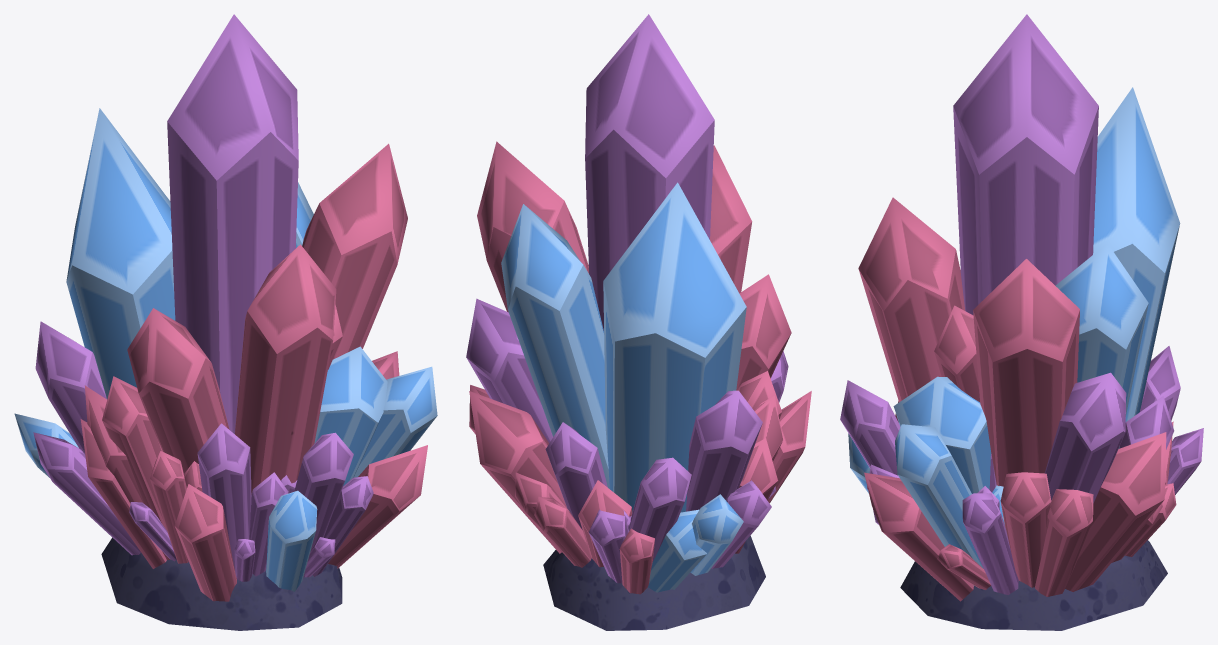
The model's file is crystal.glb.
The picture shows the model from 3 angles, left to right: view 1: azimuth 30°, elevation 25°; view 2: azimuth 150°, elevation 25°; view 3: azimuth 270°, elevation 25°; orthographic projection. The views are drawn at different scales.
Visible parts, largest first — view 1: PowerUP; view 2: PowerUP; view 3: PowerUP.
Part boxes in pixels (left/top/right/bottom): PowerUP: left=14, top=14, right=437, bottom=630; PowerUP: left=466, top=14, right=811, bottom=630; PowerUP: left=840, top=14, right=1203, bottom=630.
Bounding box in the file's own units: 5.23 × 8.59 × 4.94.
Materials: 2 (2 with a texture image).
